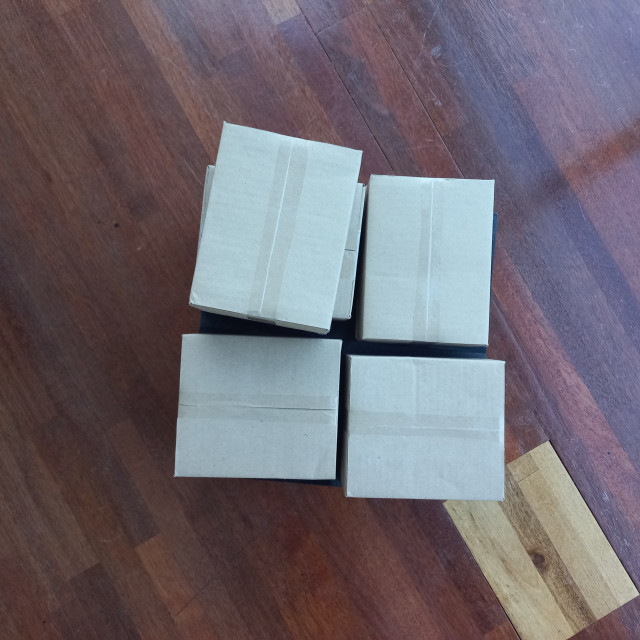box: (288, 304, 421, 522), (302, 153, 433, 312), (178, 134, 305, 289), (188, 290, 291, 467)
